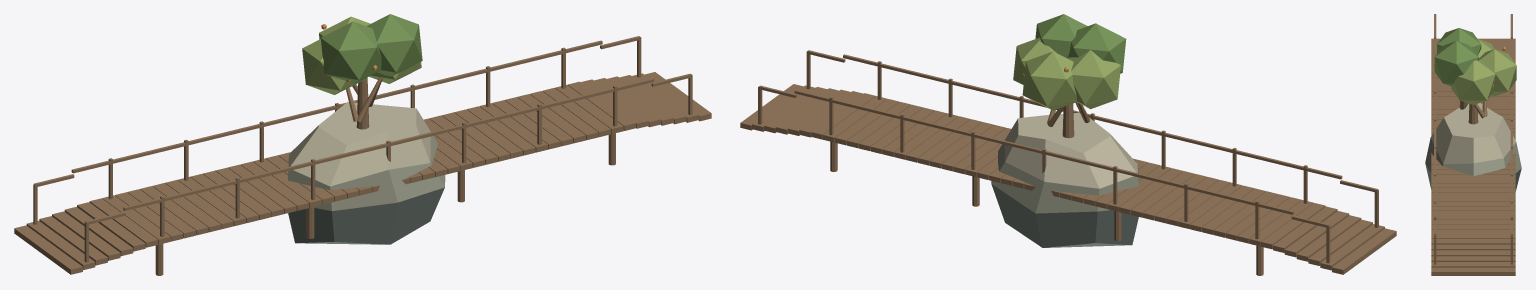
File: coastal-garden-kit.glb
The picture shows the model from 3 angles, left to right: view 1: azimuth 30°, elevation 25°; view 2: azimuth 150°, elevation 25°; view 3: azimuth 270°, elevation 25°; orthographic projection. The views are drawn at different scales.
Parts seen in each view (by area): view 1: batch-garden-bridge-wood, batch-cliff-module-stone_light, batch-apple-tree-foliage, batch-cliff-module-stone_dark, batch-cliff-module-stone, batch-apple-tree-foliage_light, batch-apple-tree-wood; view 2: batch-garden-bridge-wood, batch-cliff-module-stone_light, batch-apple-tree-foliage_light, batch-cliff-module-stone_dark, batch-cliff-module-stone, batch-apple-tree-foliage, batch-apple-tree-wood; view 3: batch-garden-bridge-wood, batch-cliff-module-stone_light, batch-apple-tree-foliage_light, batch-apple-tree-foliage, batch-cliff-module-stone, batch-apple-tree-wood, batch-cliff-module-stone_dark.
Part boxes in pixels (bbox=[...]): batch-garden-bridge-wood: bbox=[14, 36, 711, 275]; batch-cliff-module-stone_light: bbox=[289, 102, 430, 186]; batch-apple-tree-foliage: bbox=[320, 14, 422, 84]; batch-cliff-module-stone_dark: bbox=[288, 187, 444, 244]; batch-cliff-module-stone: bbox=[288, 136, 445, 210]; batch-apple-tree-foliage_light: bbox=[302, 16, 421, 94]; batch-apple-tree-wood: bbox=[346, 77, 382, 129]; batch-garden-bridge-wood: bbox=[740, 50, 1396, 275]; batch-cliff-module-stone_light: bbox=[1004, 112, 1137, 188]; batch-apple-tree-foliage_light: bbox=[1013, 37, 1120, 110]; batch-cliff-module-stone_dark: bbox=[991, 184, 1138, 247]; batch-cliff-module-stone: bbox=[991, 144, 1139, 213]; batch-apple-tree-foliage: bbox=[1035, 14, 1126, 73]; batch-apple-tree-wood: bbox=[1047, 102, 1089, 138]; batch-garden-bridge-wood: bbox=[1431, 14, 1515, 275]; batch-cliff-module-stone_light: bbox=[1430, 103, 1516, 164]; batch-apple-tree-foliage_light: bbox=[1451, 39, 1516, 104]; batch-apple-tree-foliage: bbox=[1434, 28, 1481, 86]; batch-cliff-module-stone: bbox=[1425, 138, 1521, 175]; batch-apple-tree-wood: bbox=[1459, 100, 1487, 124]; batch-cliff-module-stone_dark: bbox=[1425, 163, 1521, 191].
Size of the model in its own units: 16.98 by 5.5 by 2.97.
